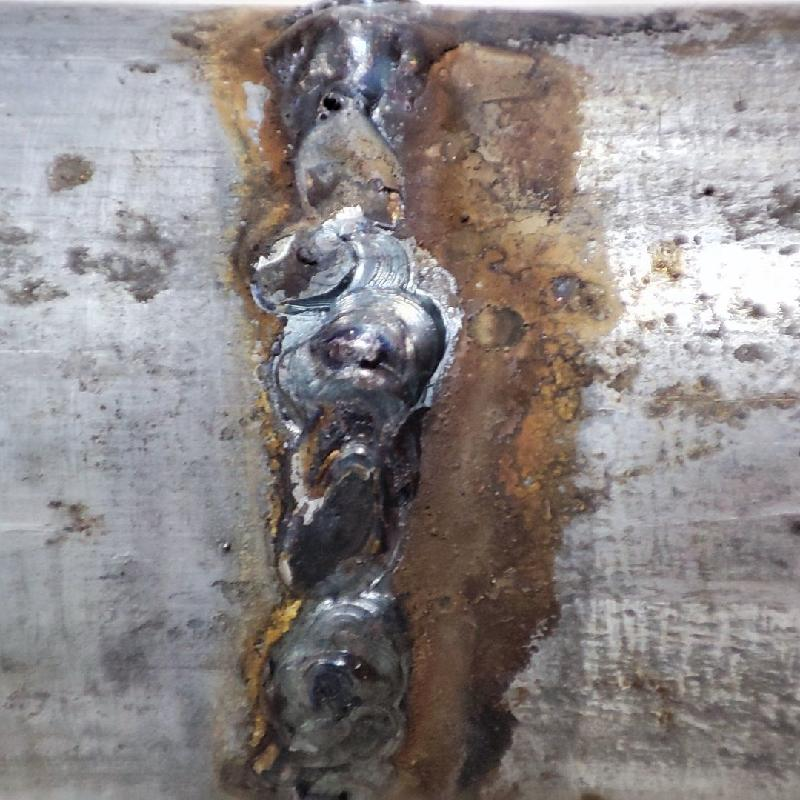Not_fully_soldered: (271, 85, 416, 294)
Surface_pores: (305, 83, 359, 130)
Weld: (258, 0, 426, 125)
wrong_size: (265, 294, 439, 772)
